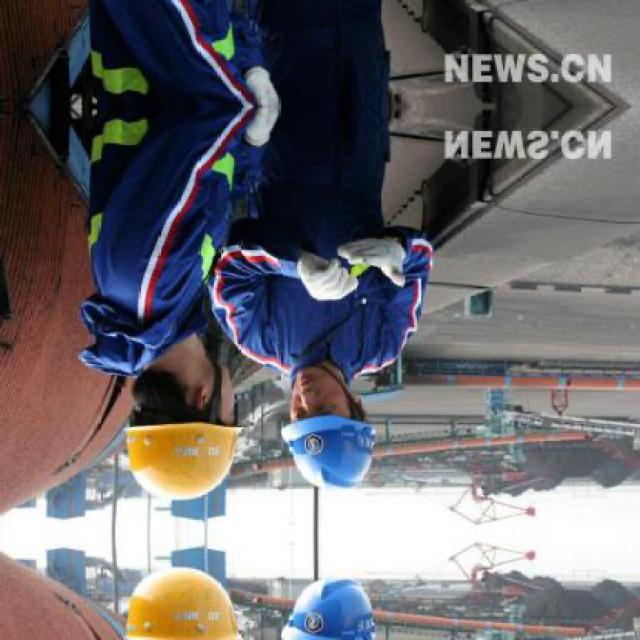con casco: (122, 396, 280, 506), (282, 411, 408, 506)
